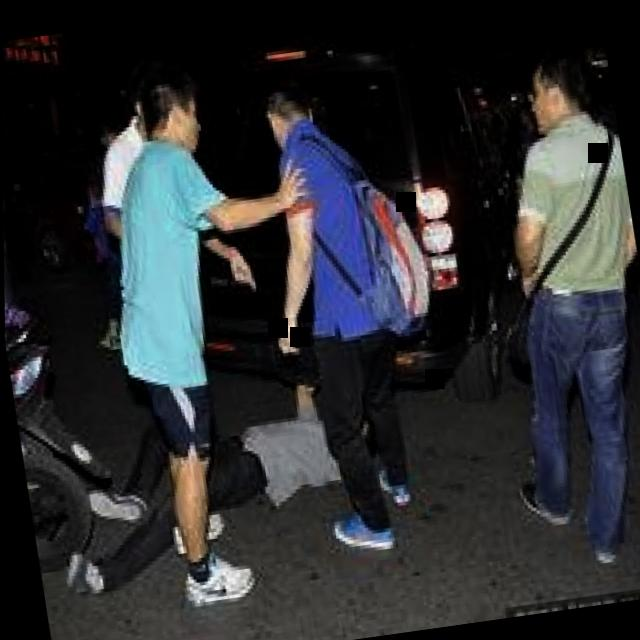Fall-Detected: (21, 353, 404, 582)
